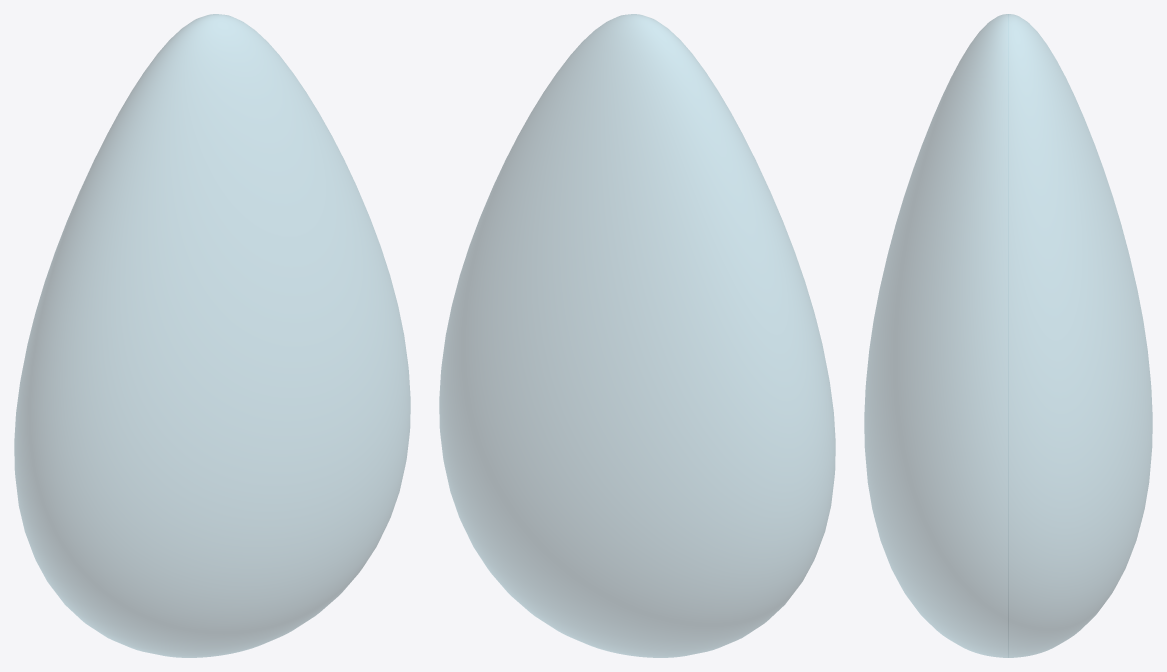
3 views of the same model, side by side, from view 1: azimuth 30°, elevation 25°; view 2: azimuth 150°, elevation 25°; view 3: azimuth 270°, elevation 25° (orthographic).
Parts seen in each view (by area): view 1: gel-body; view 2: gel-body; view 3: gel-body.
Boxes of the visible parts, left/top/right/bottom form: gel-body: left=14, top=14, right=410, bottom=657; gel-body: left=439, top=14, right=835, bottom=657; gel-body: left=864, top=14, right=1152, bottom=657.
Size of the model in its own units: 1.23 by 2 by 0.8435.
